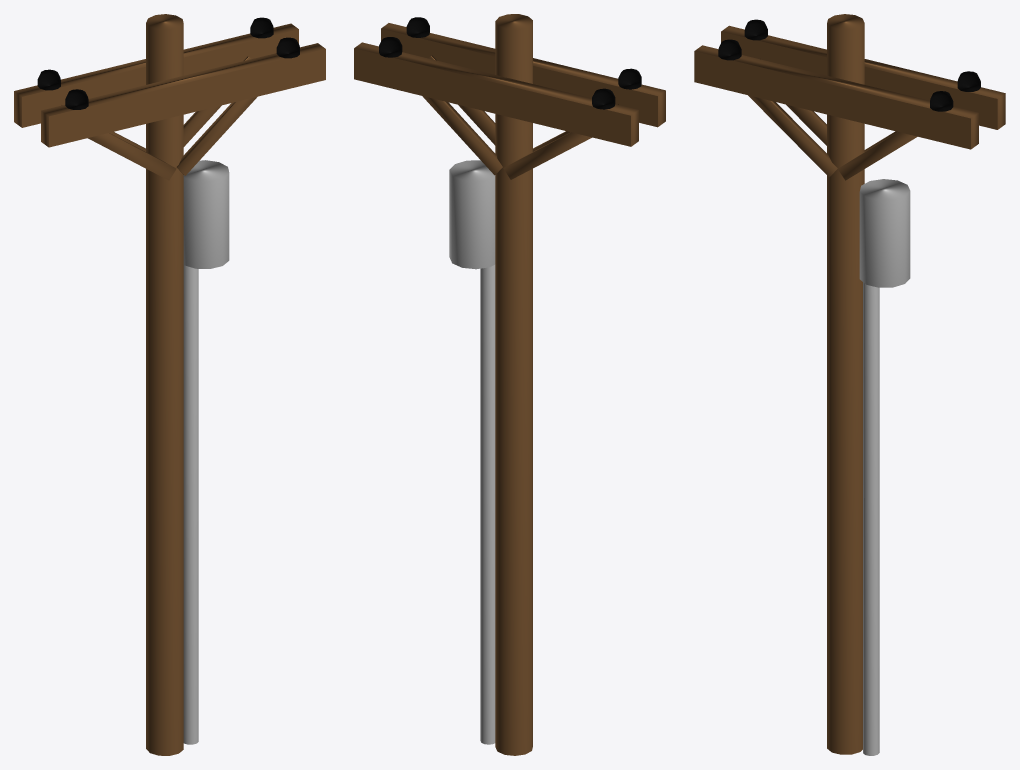
The model's file is TelephonePoleWithGround.fbx.
3 views of the same model, side by side, from view 1: azimuth 30°, elevation 25°; view 2: azimuth 150°, elevation 25°; view 3: azimuth 330°, elevation 25° (orthographic).
Visible parts, largest first — view 1: Telephone Pole w/ Ground; view 2: Telephone Pole w/ Ground; view 3: Telephone Pole w/ Ground.
Part boxes in pixels (x1=…): Telephone Pole w/ Ground: x1=14, y1=14, x2=325, y2=755; Telephone Pole w/ Ground: x1=354, y1=14, x2=665, y2=755; Telephone Pole w/ Ground: x1=694, y1=14, x2=1005, y2=755.
Size of the model in its own units: 779 by 1951 by 189.
